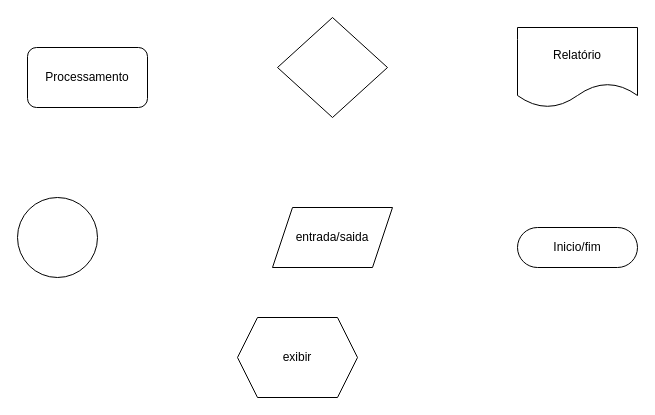
Image size: 655x415. Some labels were removed from this diagram. The shapes that lost their labels are listed below. From the top down, each one's centre as x and y in pixels, then its label:
the point at 332,67: Condição
the point at 57,237: Ponto de encontro
